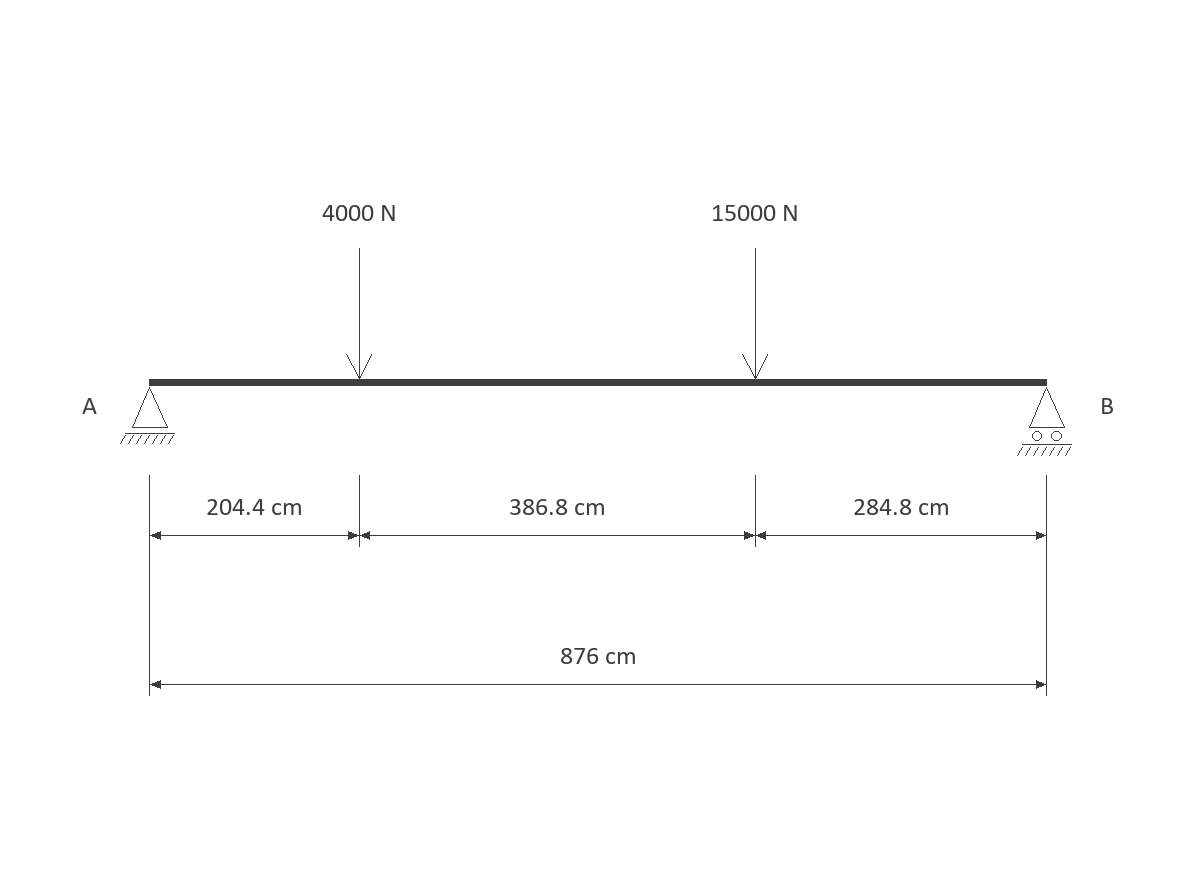pin_support: (120, 387, 175, 444)
point_load: (346, 248, 372, 379), (742, 248, 768, 379)
roller_support: (1017, 387, 1072, 456)
